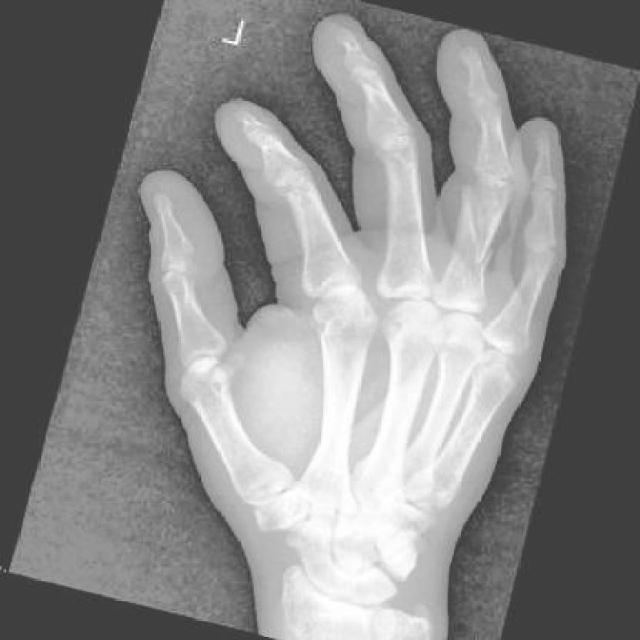Fracture: (436, 171, 519, 297)
